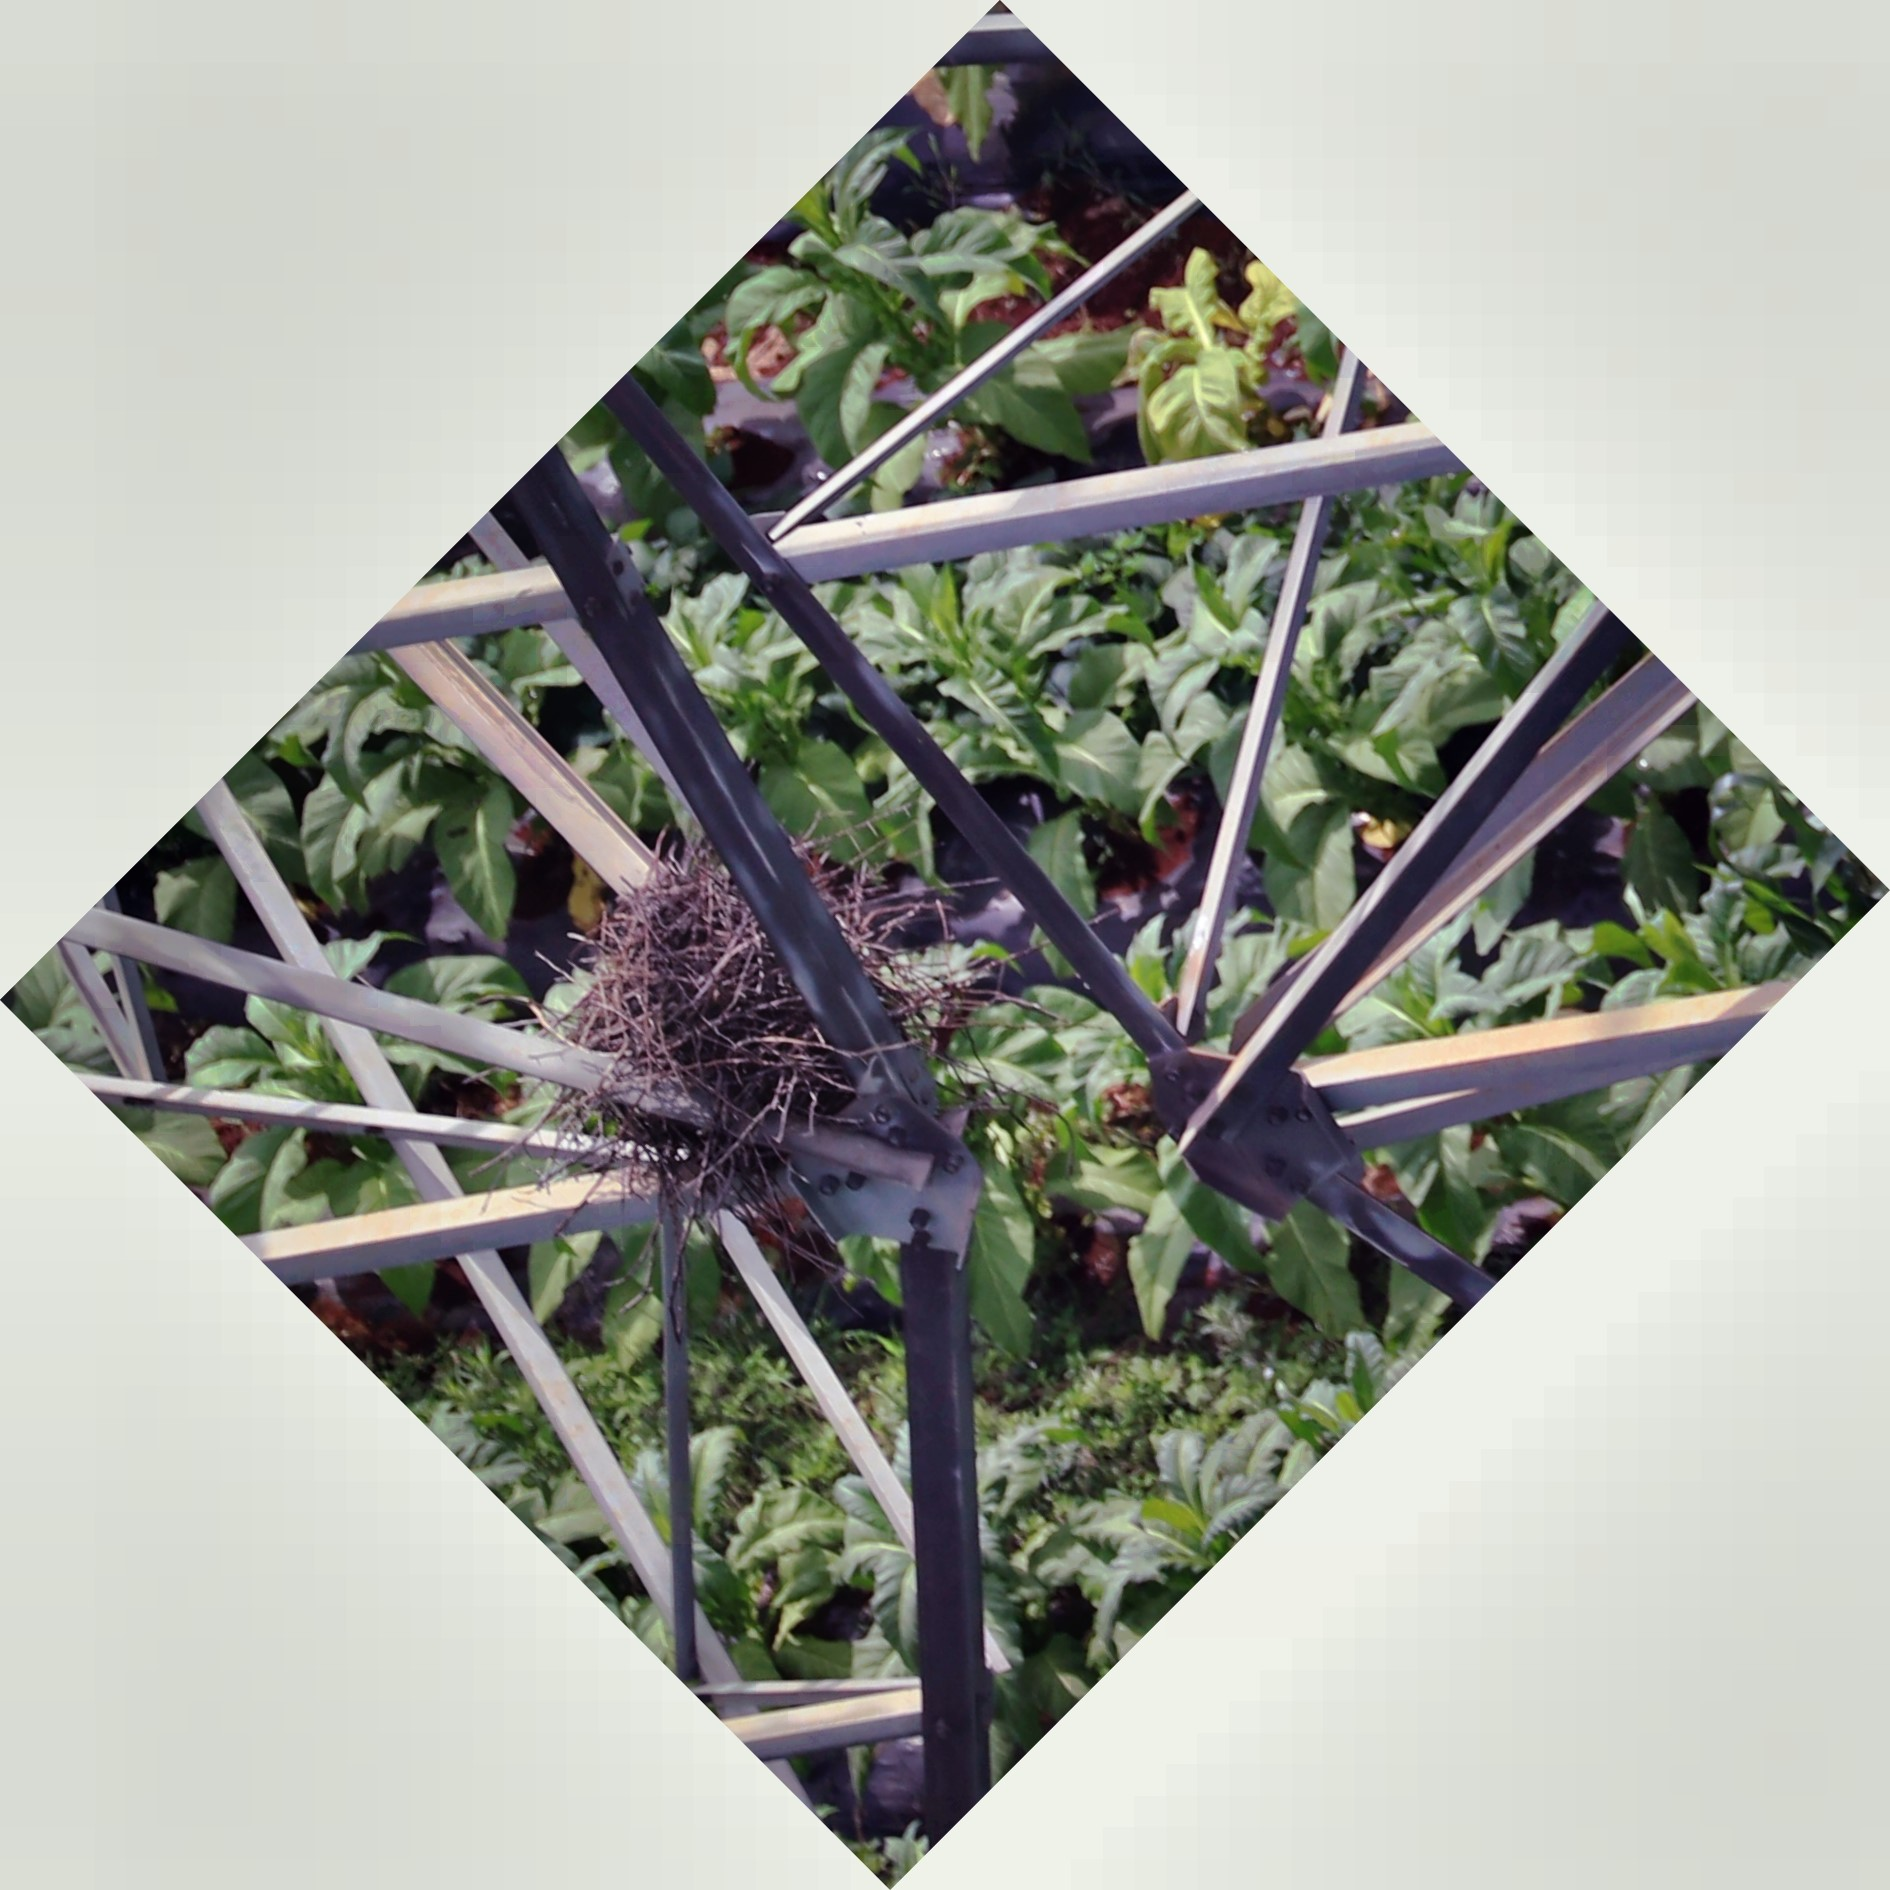niaowo: (523, 820, 969, 1231)
